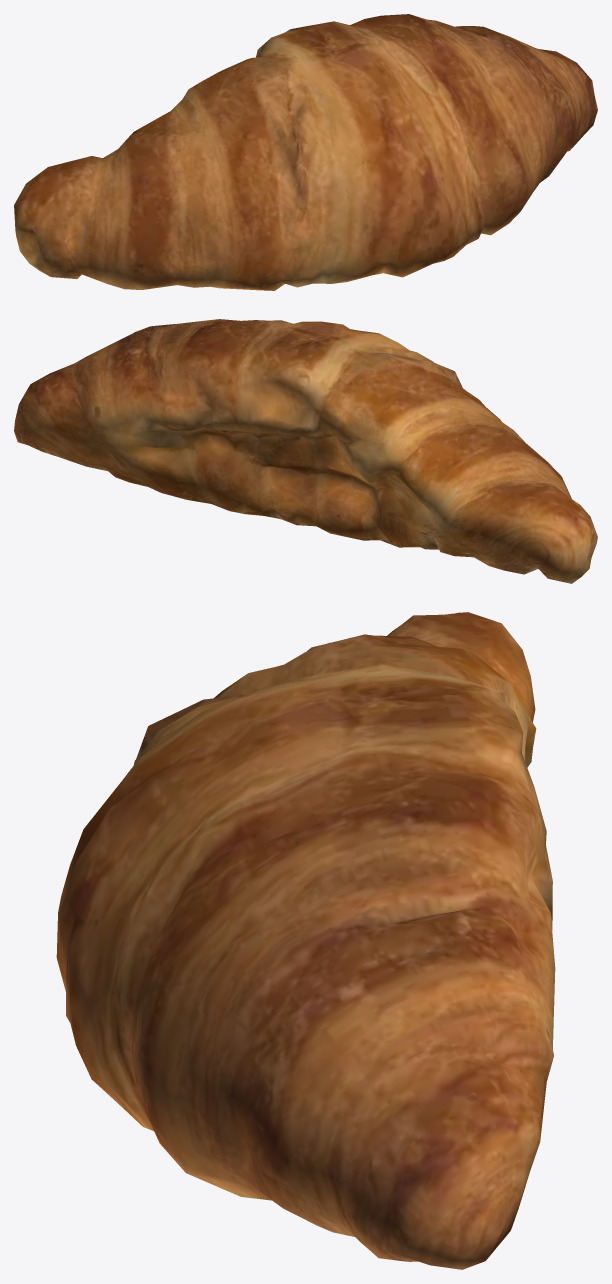
File: bread.glb
3 renders of one model, top to bottom at view 1: azimuth 30°, elevation 25°; view 2: azimuth 150°, elevation 25°; view 3: azimuth 270°, elevation 25°, orthographic. The views are drawn at different scales.
Visible parts, largest first — view 1: croissant; view 2: croissant; view 3: croissant.
Boxes of the visible parts, left/top/right/bottom form: croissant: left=14, top=14, right=597, bottom=290; croissant: left=14, top=319, right=597, bottom=583; croissant: left=56, top=612, right=555, bottom=1269.
Size of the model in its own units: 0.2 by 0.0618 by 0.0755.
Materials: 1 (1 with a texture image).
